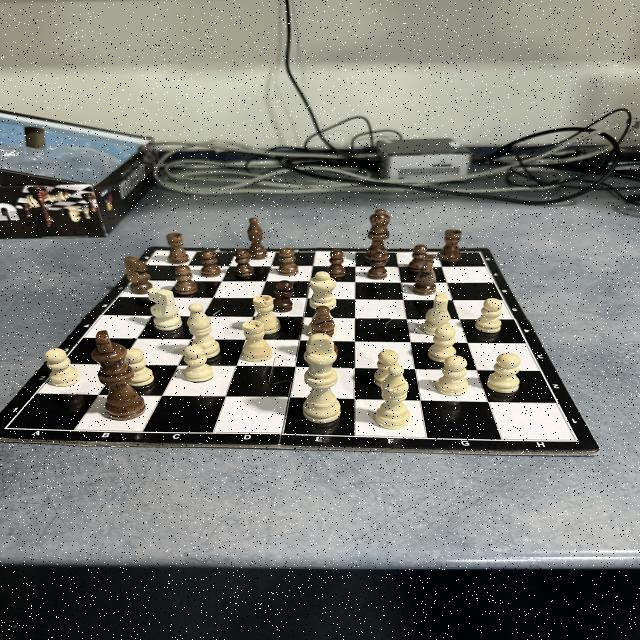Black-Bishop: (247, 217, 267, 259), (310, 308, 336, 338)
Black-King: (93, 330, 146, 420)
Black-Knight: (122, 256, 152, 294), (415, 255, 435, 297)
Black-Pawn: (270, 279, 294, 313), (173, 265, 197, 295), (200, 250, 222, 276), (276, 249, 298, 275), (368, 253, 388, 279), (328, 250, 346, 278), (409, 246, 427, 272), (236, 250, 252, 278)
Black-Queen: (365, 209, 390, 263)
Black-Rook: (438, 228, 464, 262), (167, 232, 189, 264)
White-Bishop: (375, 366, 409, 431), (188, 304, 220, 358)
White-King: (302, 334, 338, 424)
White-Knight: (149, 288, 181, 332), (422, 292, 449, 334)
White-Pawn: (44, 348, 80, 386), (488, 352, 520, 394), (436, 356, 468, 396), (181, 346, 213, 382), (428, 326, 456, 362), (127, 348, 153, 386), (475, 298, 502, 334), (374, 349, 400, 384)
White-Queen: (308, 270, 338, 314)
White-Rook: (240, 321, 272, 361), (252, 296, 280, 334)
